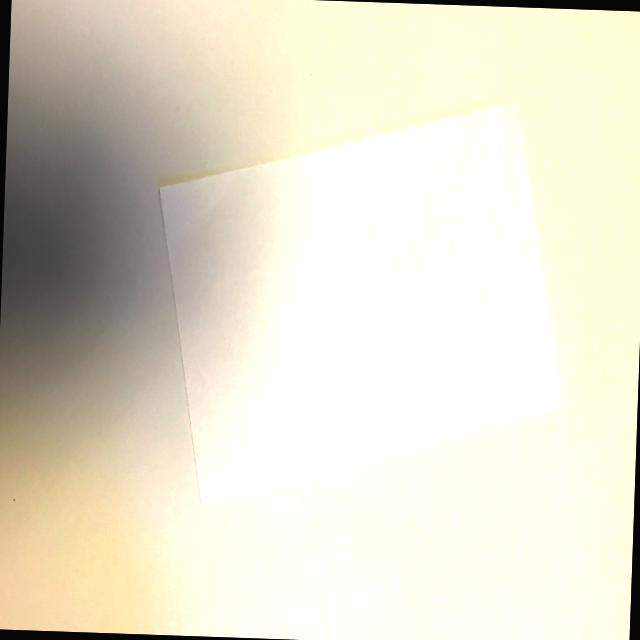Paper: (132, 84, 596, 540)
